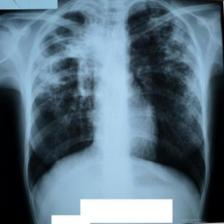tuberculosis: (21, 1, 209, 212)
